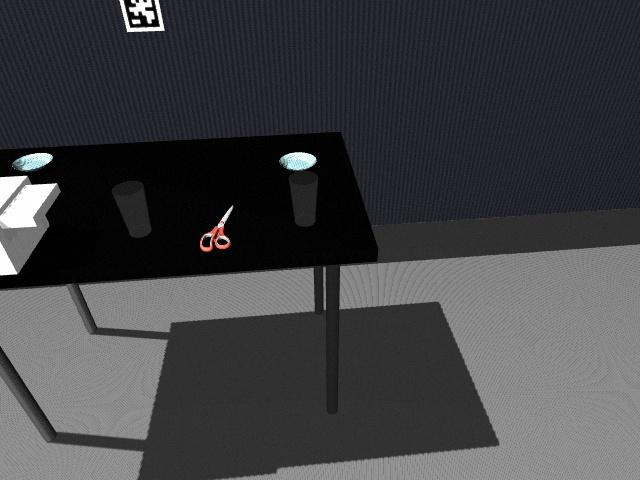cup: (111, 181, 151, 237), (288, 171, 319, 227)
plate: (12, 153, 54, 172), (279, 152, 316, 171)
scissors: (199, 204, 236, 253)
